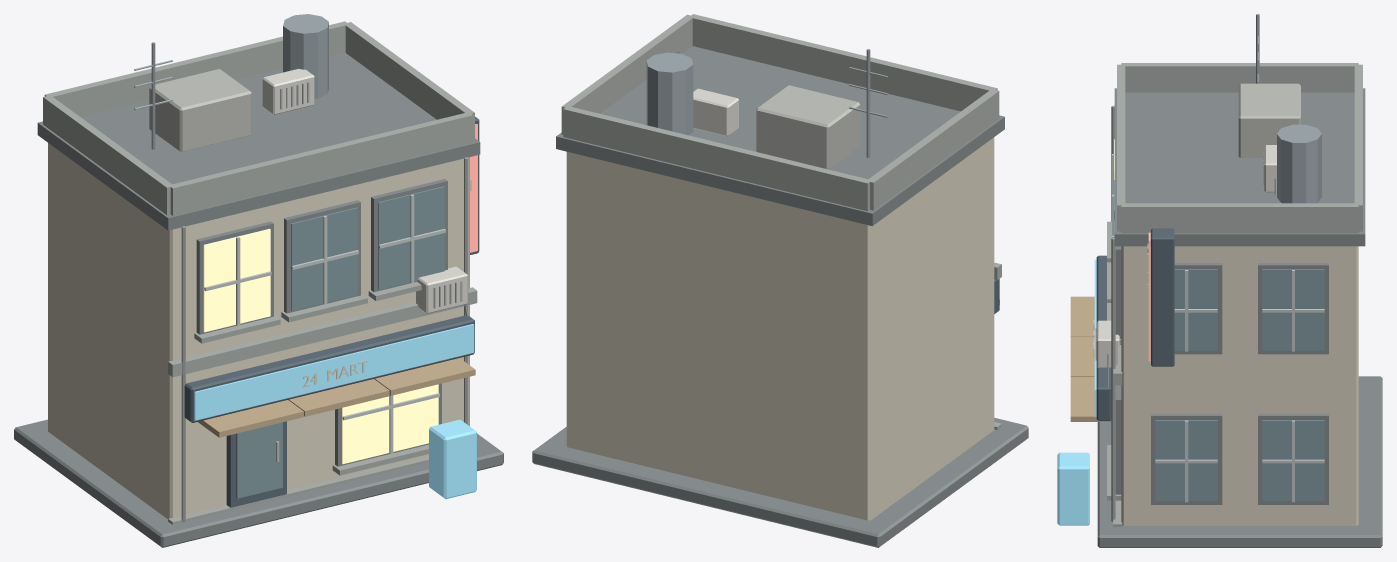
File: SM_ENV_Building_01_Market.glb
The picture shows the model from 3 angles, left to right: view 1: azimuth 30°, elevation 25°; view 2: azimuth 150°, elevation 25°; view 3: azimuth 270°, elevation 25°; orthographic projection. The views are drawn at different scales.
Parts seen in each view (by area): view 1: SM_ENV_Building_01_Market; view 2: SM_ENV_Building_01_Market; view 3: SM_ENV_Building_01_Market.
Boxes of the visible parts, box(x1,y1,x2,y2) form: SM_ENV_Building_01_Market: box(14, 14, 503, 547); SM_ENV_Building_01_Market: box(532, 14, 1028, 547); SM_ENV_Building_01_Market: box(1057, 14, 1382, 547).
Size of the model in its own units: 6.46 by 7.6 by 5.48.
